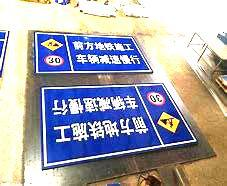sign: (40, 87, 188, 149), (36, 31, 148, 73)
